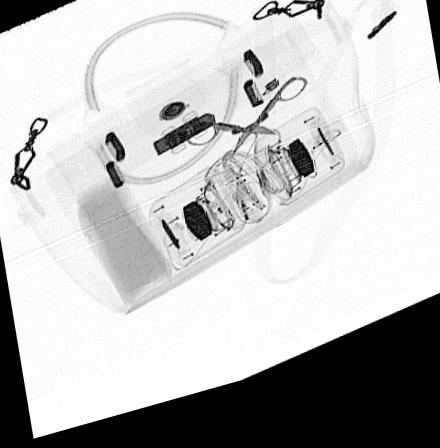Scissors: (184, 90, 310, 171)
